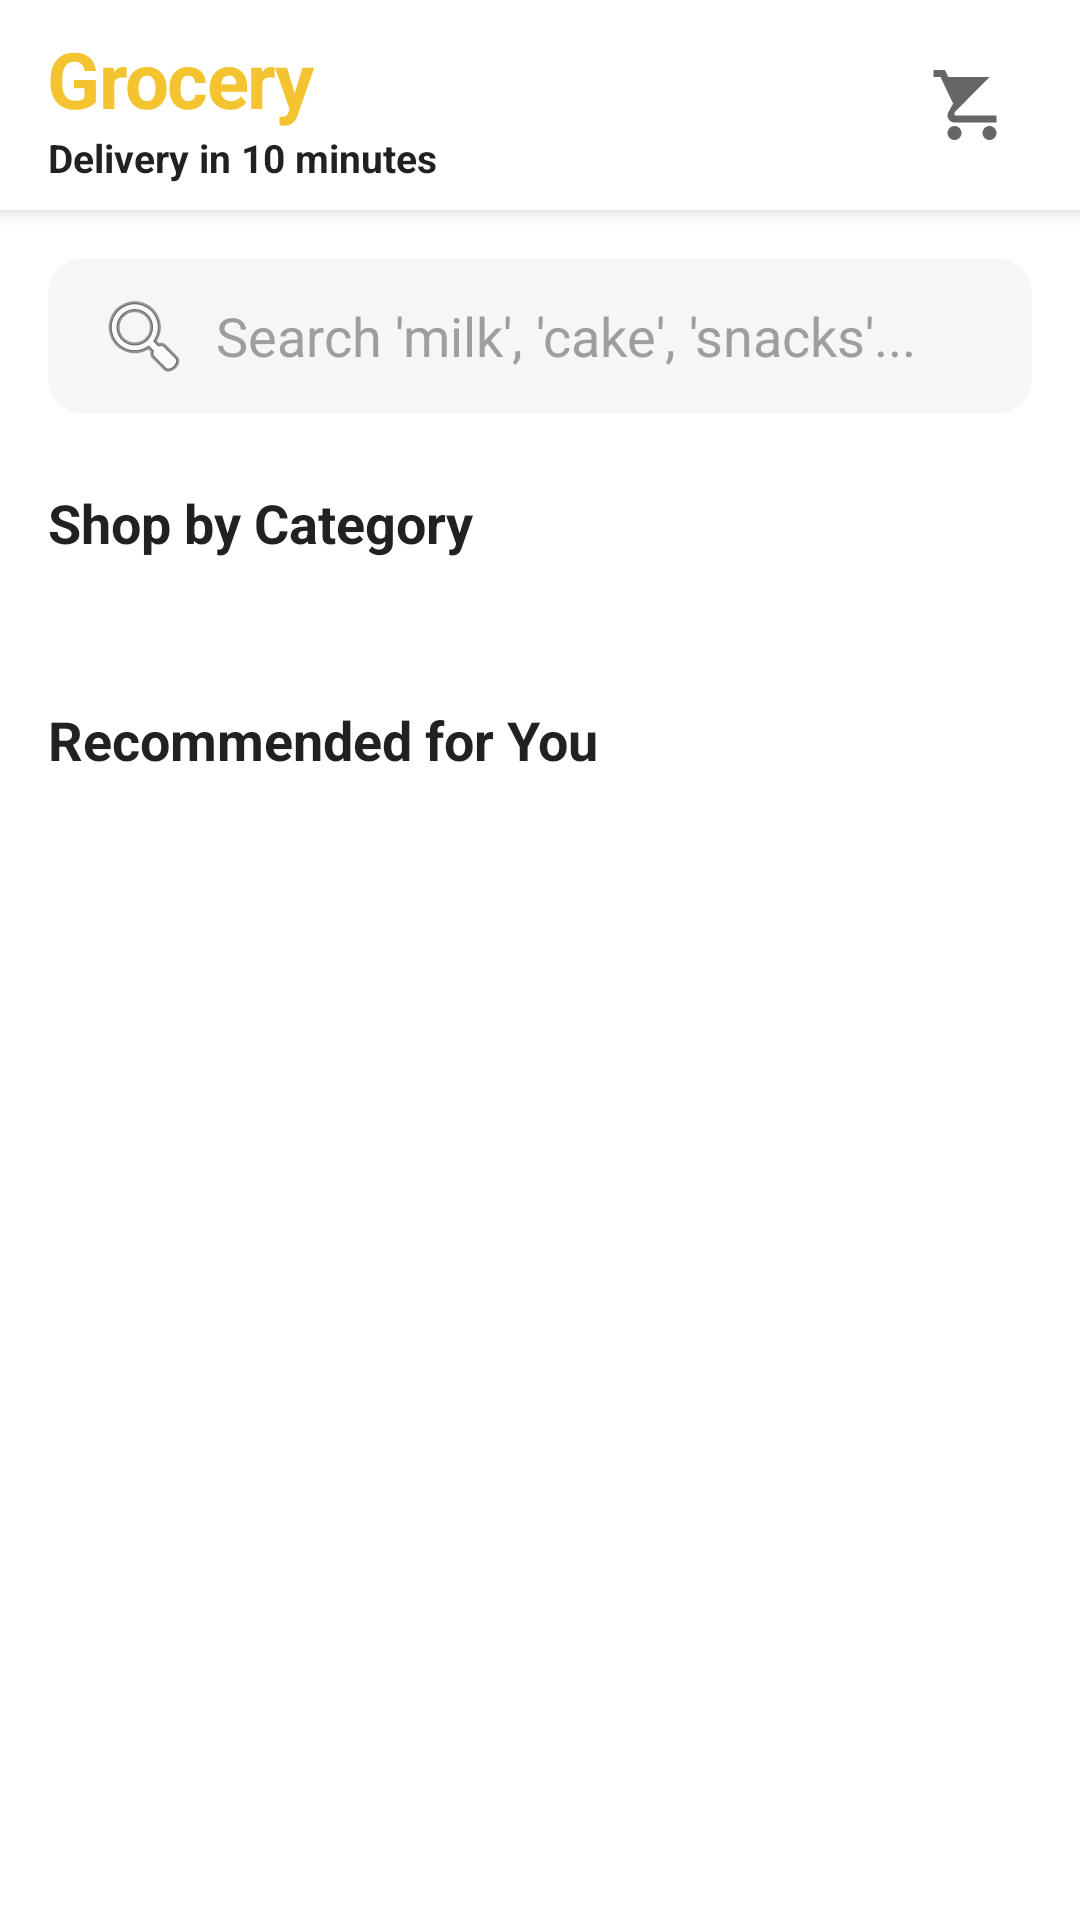

Screen size 1080 × 1920. Icon name, then its box in pixels as (x1,y1,x2,y2):
cart: (933,70,997,140)
